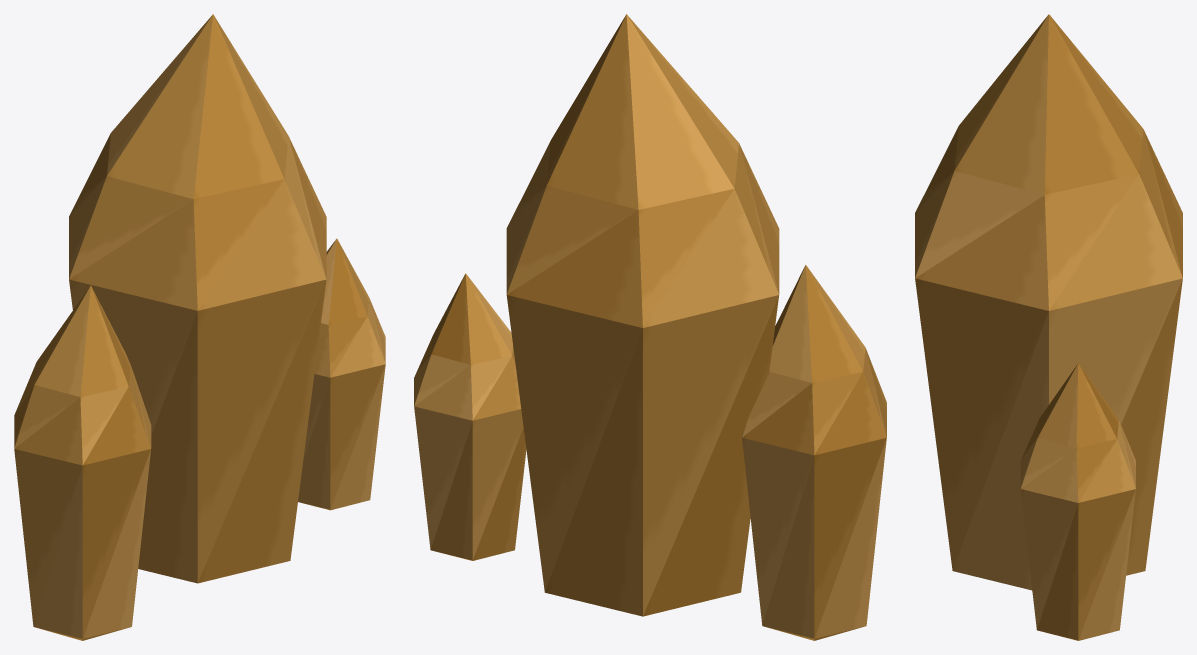
The model's file is crystal.obj.
The picture shows the model from 3 angles, left to right: view 1: azimuth 30°, elevation 25°; view 2: azimuth 150°, elevation 25°; view 3: azimuth 270°, elevation 25°; orthographic projection. The views are drawn at different scales.
Bounding box in the file's own units: 0.251 × 0.3354 × 0.1368.
1 material, 1 textured.
